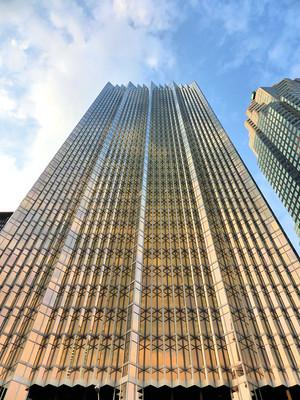building: (13, 79, 300, 396)
